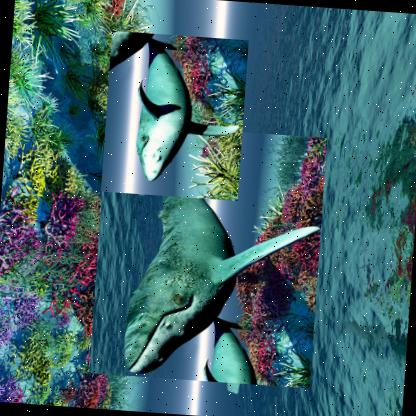blue_whale: (87, 122, 326, 388), (99, 30, 248, 201)
